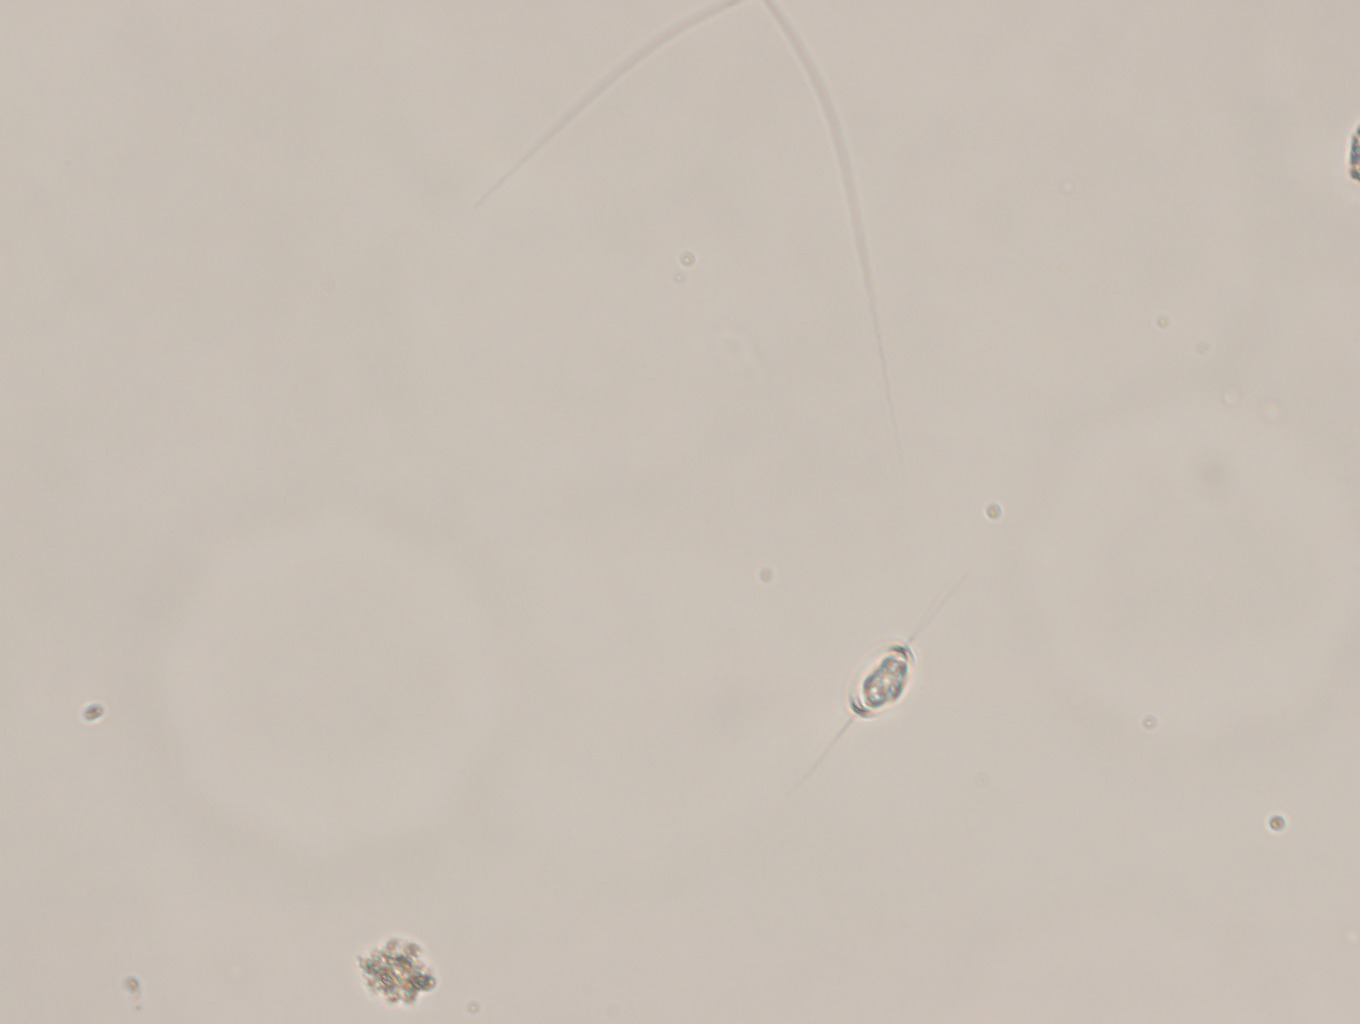chaetoceros: (811, 569, 955, 790)
